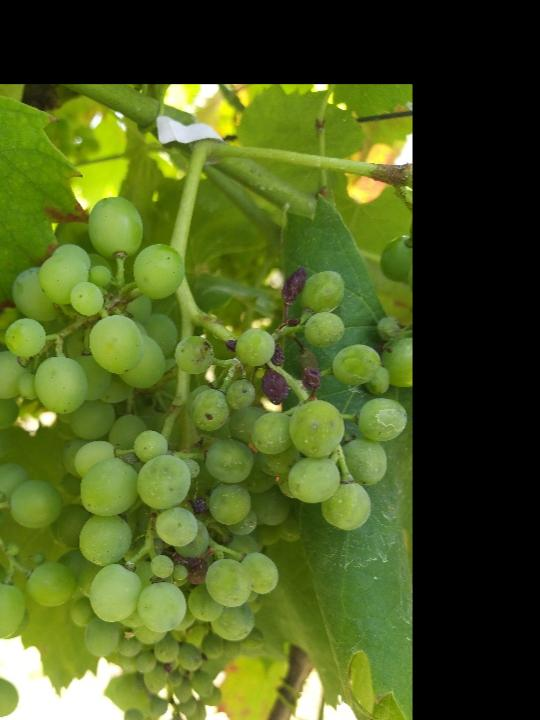grape: (0, 195, 409, 660)
